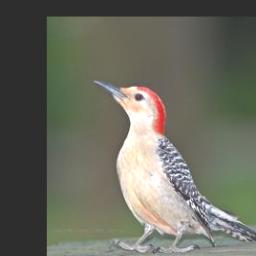Woodpecker: (90, 76, 256, 254)
